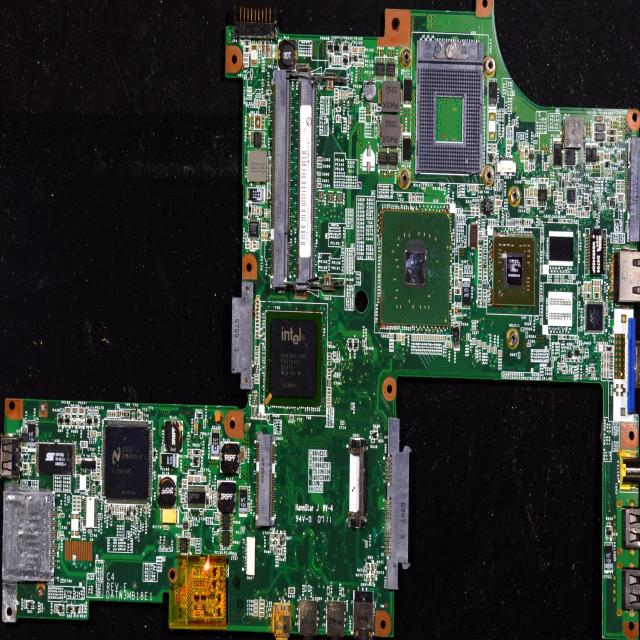Capacitor Jumper: (90, 430, 98, 438), (358, 46, 365, 54), (188, 474, 194, 482), (600, 151, 604, 162), (472, 185, 476, 195), (261, 100, 267, 106), (617, 151, 620, 163), (521, 150, 524, 161), (556, 199, 564, 203), (195, 476, 200, 482), (59, 513, 65, 518), (345, 90, 348, 100), (446, 342, 452, 347), (161, 444, 164, 453), (525, 162, 528, 171), (584, 283, 587, 292), (402, 335, 405, 344), (352, 47, 357, 52), (617, 131, 622, 136), (507, 139, 512, 144), (243, 62, 249, 66), (317, 158, 323, 162), (317, 164, 323, 168), (317, 184, 323, 188), (557, 196, 563, 200), (262, 222, 266, 228), (342, 89, 344, 100), (262, 230, 264, 241), (530, 188, 533, 195), (259, 40, 261, 50), (182, 479, 187, 483), (186, 532, 191, 536), (247, 87, 252, 91), (254, 99, 256, 109), (550, 153, 552, 163), (317, 178, 321, 183), (266, 230, 268, 240), (59, 536, 65, 539), (569, 173, 571, 182), (534, 188, 536, 197), (209, 438, 211, 446), (186, 512, 188, 520), (164, 525, 168, 529), (317, 172, 321, 176), (254, 206, 256, 214), (250, 242, 252, 250), (541, 266, 543, 274), (389, 334, 393, 338), (348, 93, 353, 96), (506, 145, 511, 148), (245, 451, 247, 458), (599, 197, 601, 204), (535, 198, 537, 205), (500, 351, 502, 357), (327, 395, 331, 398), (116, 411, 118, 417), (340, 421, 344, 424), (80, 518, 82, 524), (88, 530, 92, 533), (60, 531, 64, 534), (270, 533, 272, 539), (366, 541, 368, 547), (254, 604, 258, 607), (254, 608, 258, 611), (255, 612, 258, 616), (533, 140, 537, 143), (525, 143, 529, 146), (519, 146, 523, 149), (476, 184, 478, 190), (526, 209, 530, 212), (594, 211, 596, 217), (548, 219, 552, 222), (578, 288, 580, 294), (472, 323, 476, 326), (575, 336, 579, 339), (428, 335, 430, 341), (436, 336, 438, 342), (552, 362, 554, 367), (559, 364, 561, 369), (588, 368, 590, 373), (339, 90, 340, 100), (540, 296, 542, 301), (454, 317, 456, 322), (397, 335, 399, 340), (434, 336, 436, 341), (430, 336, 432, 341), (472, 339, 474, 344), (474, 339, 476, 344), (477, 341, 479, 346), (580, 350, 583, 353), (592, 373, 595, 376), (507, 153, 510, 156), (589, 177, 592, 180), (559, 335, 562, 338), (498, 352, 500, 356), (105, 506, 106, 514), (125, 506, 126, 514), (185, 512, 186, 520), (233, 554, 237, 556), (254, 600, 258, 602), (617, 136, 625, 137), (530, 146, 534, 148), (602, 204, 606, 206), (526, 206, 530, 208), (260, 207, 261, 215), (567, 220, 571, 222), (472, 328, 476, 330), (422, 336, 424, 340), (424, 336, 426, 340), (426, 336, 428, 340), (432, 336, 434, 340), (527, 344, 531, 346), (525, 189, 526, 196), (490, 346, 491, 352), (488, 346, 489, 352), (493, 347, 494, 353), (563, 364, 566, 366), (563, 372, 566, 374), (329, 379, 330, 385), (328, 398, 330, 401), (328, 405, 330, 408), (120, 506, 121, 512), (118, 507, 119, 513), (81, 524, 82, 530), (614, 554, 615, 560), (515, 120, 516, 126), (520, 142, 522, 145), (608, 170, 611, 172), (559, 220, 562, 222), (539, 219, 540, 225), (541, 318, 542, 324), (467, 334, 468, 340), (469, 334, 470, 340), (412, 335, 413, 341), (418, 335, 419, 341), (414, 335, 415, 341), (420, 335, 421, 341), (416, 335, 417, 341), (439, 336, 440, 342), (441, 336, 442, 342), (443, 336, 444, 342), (485, 343, 486, 349), (495, 348, 496, 353), (480, 341, 481, 346), (483, 343, 484, 348), (328, 402, 330, 404), (400, 335, 400, 340)
Connector: (270, 68, 289, 290), (298, 72, 315, 288), (255, 433, 272, 528), (349, 436, 364, 524)
IC: (265, 310, 321, 408), (36, 440, 78, 478), (582, 222, 608, 279), (221, 440, 243, 480), (505, 251, 524, 286), (584, 300, 604, 332), (188, 483, 206, 508), (84, 497, 98, 528), (174, 537, 194, 551), (375, 56, 385, 81), (249, 132, 264, 148), (379, 146, 388, 171), (389, 146, 397, 172), (248, 222, 260, 239), (386, 58, 395, 80), (27, 423, 35, 447), (538, 183, 546, 205), (566, 188, 576, 204), (221, 514, 232, 528), (222, 528, 230, 546), (101, 513, 102, 520)
Resistor Jumper: (243, 46, 250, 53), (288, 588, 295, 594), (244, 40, 250, 45), (247, 90, 252, 96), (256, 93, 262, 98), (243, 53, 249, 57), (341, 588, 344, 596), (243, 57, 249, 61), (97, 462, 101, 467), (247, 96, 252, 100), (327, 342, 332, 346), (121, 410, 124, 416), (138, 409, 140, 418), (72, 496, 78, 499), (258, 99, 260, 108), (245, 245, 251, 248), (364, 347, 366, 355), (327, 368, 331, 372), (111, 410, 113, 418), (113, 410, 115, 418), (91, 476, 95, 480), (112, 506, 114, 514), (282, 547, 284, 555), (374, 562, 376, 570), (364, 564, 366, 572), (364, 574, 366, 582), (328, 587, 330, 595), (252, 206, 254, 214), (455, 270, 459, 274), (521, 327, 525, 331), (327, 372, 332, 375), (506, 149, 511, 152), (110, 410, 112, 417), (107, 410, 109, 417), (140, 413, 142, 420), (274, 547, 276, 554), (245, 233, 247, 240), (526, 332, 528, 339), (518, 353, 520, 359), (328, 356, 332, 359), (328, 362, 332, 365), (327, 376, 331, 379), (132, 412, 134, 418), (96, 465, 100, 468), (96, 469, 100, 472), (96, 476, 100, 479), (78, 496, 82, 499), (73, 503, 76, 507), (72, 508, 78, 510), (118, 514, 120, 520), (270, 539, 272, 545), (270, 546, 274, 549), (280, 548, 282, 554), (374, 571, 376, 577), (304, 586, 306, 592), (308, 586, 310, 592), (608, 174, 612, 177), (468, 185, 470, 191), (471, 204, 475, 207), (471, 208, 475, 211), (476, 208, 479, 212), (455, 264, 459, 267), (459, 265, 463, 268), (362, 340, 364, 346), (77, 504, 82, 506), (512, 120, 514, 125), (442, 185, 444, 190), (253, 245, 258, 247), (364, 341, 366, 346), (97, 472, 100, 475), (476, 204, 479, 207), (585, 353, 589, 355), (327, 388, 331, 390), (327, 392, 331, 394), (120, 410, 121, 418), (96, 458, 100, 460), (78, 508, 82, 510), (246, 242, 250, 244), (455, 268, 459, 270), (534, 317, 538, 319), (122, 505, 123, 512), (339, 115, 340, 122), (585, 350, 588, 352), (328, 353, 331, 355), (115, 506, 116, 512), (424, 183, 425, 189), (440, 184, 441, 190), (470, 184, 471, 190), (446, 197, 447, 203), (472, 212, 474, 215), (563, 220, 566, 222), (459, 270, 462, 272), (455, 274, 458, 276), (73, 501, 78, 502), (278, 549, 279, 554), (422, 183, 423, 188), (448, 198, 449, 203), (253, 242, 258, 243), (92, 473, 96, 474), (78, 500, 82, 501), (77, 502, 81, 503)
iC: (102, 424, 152, 503), (98, 512, 100, 519)
